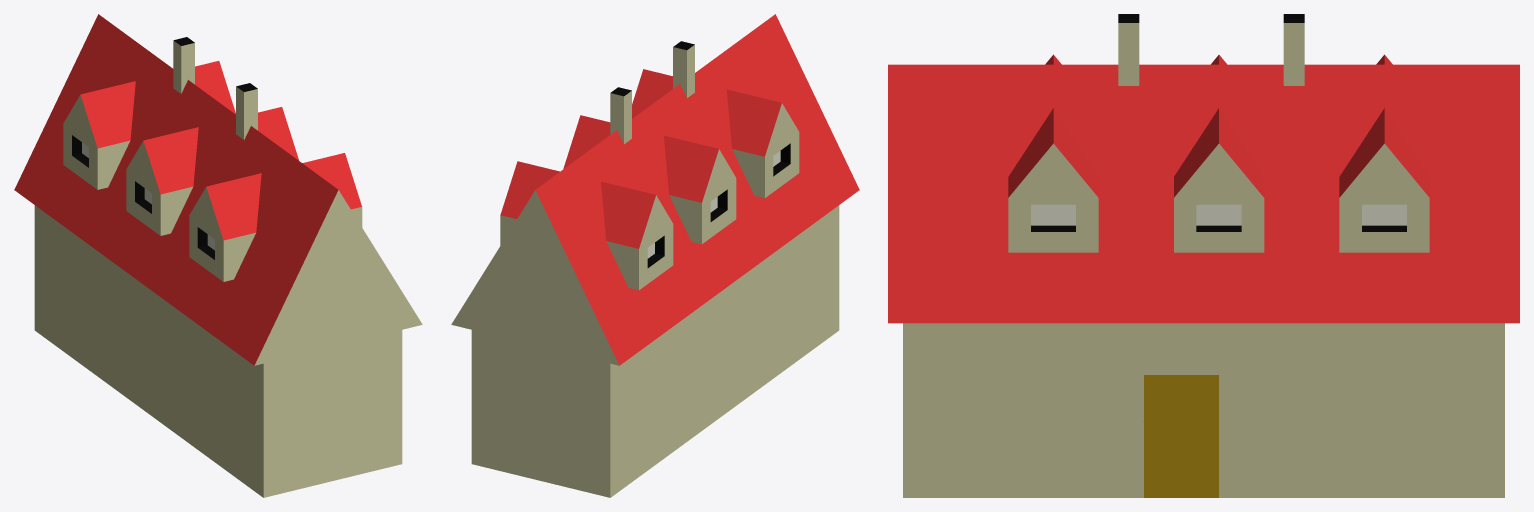
File: haziko.glb
3 views of the same model, side by side, from view 1: azimuth 30°, elevation 25°; view 2: azimuth 150°, elevation 25°; view 3: azimuth 270°, elevation 25° (orthographic). The views are drawn at different scales.
Visible parts, largest first — view 1: Teto, Haz.001, Kisteto5, Kisteto, Kisteto4, Kisteto2, Kisteto3, Kisteto6, Kemeny, Kemeny.001; view 2: Teto, Haz.001, Kisteto4, Kisteto, Kisteto5, Kisteto6, Kisteto3, Kisteto2, Kemeny, Kemeny.001; view 3: Teto, Haz.001, Kisteto3, Kisteto6, Kisteto2, Kemeny, Kemeny.001.
Part boxes in pixels (x1=…): Teto: x1=14, y1=14, x2=422, y2=365; Haz.001: x1=34, y1=205, x2=402, y2=497; Kisteto5: x1=63, y1=81, x2=135, y2=189; Kisteto: x1=126, y1=127, x2=198, y2=235; Kisteto4: x1=189, y1=173, x2=261, y2=281; Kisteto2: x1=302, y1=153, x2=362, y2=227; Kisteto3: x1=258, y1=107, x2=299, y2=160; Kisteto6: x1=195, y1=61, x2=235, y2=114; Kemeny: x1=236, y1=83, x2=257, y2=139; Kemeny.001: x1=173, y1=37, x2=194, y2=93; Teto: x1=451, y1=14, x2=859, y2=365; Haz.001: x1=471, y1=205, x2=839, y2=497; Kisteto4: x1=726, y1=89, x2=799, y2=198; Kisteto: x1=664, y1=135, x2=736, y2=244; Kisteto5: x1=601, y1=181, x2=673, y2=290; Kisteto6: x1=500, y1=161, x2=559, y2=245; Kisteto3: x1=563, y1=115, x2=610, y2=168; Kisteto2: x1=632, y1=69, x2=672, y2=118; Kemeny: x1=673, y1=41, x2=694, y2=97; Kemeny.001: x1=610, y1=87, x2=631, y2=144; Teto: x1=888, y1=64, x2=1519, y2=323; Haz.001: x1=903, y1=323, x2=1504, y2=497; Kisteto3: x1=1174, y1=108, x2=1264, y2=252; Kisteto6: x1=1339, y1=108, x2=1429, y2=252; Kisteto2: x1=1008, y1=108, x2=1098, y2=252; Kemeny: x1=1118, y1=14, x2=1139, y2=85; Kemeny.001: x1=1283, y1=14, x2=1304, y2=85.
Size of the model in its own units: 1.06 by 1.99 by 2.62.
1 material, 1 textured.
